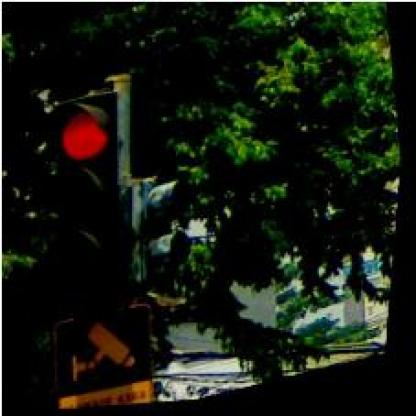red: (20, 87, 152, 313)
